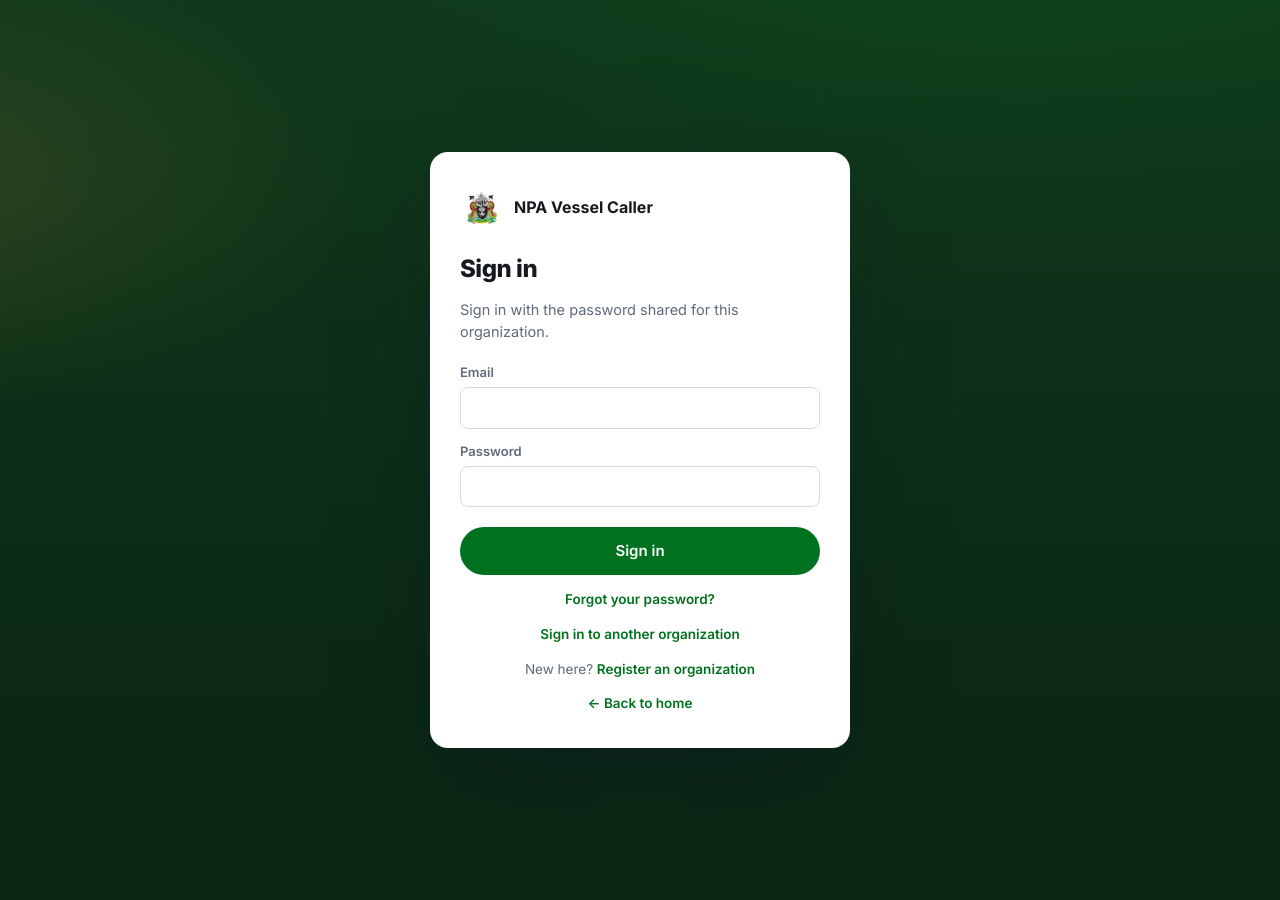
Test: AuthPage › uses the organization-specific sign-in link and keeps recovery in the same organization
This screenshot has width=1280, height=900.
Expected: the text "Sign in with the password shared for this organization." is shown, [460,301,739,340]
In the field labelled "Email": coordinates (640, 408) [460,387,820,429], type "same@example.com"
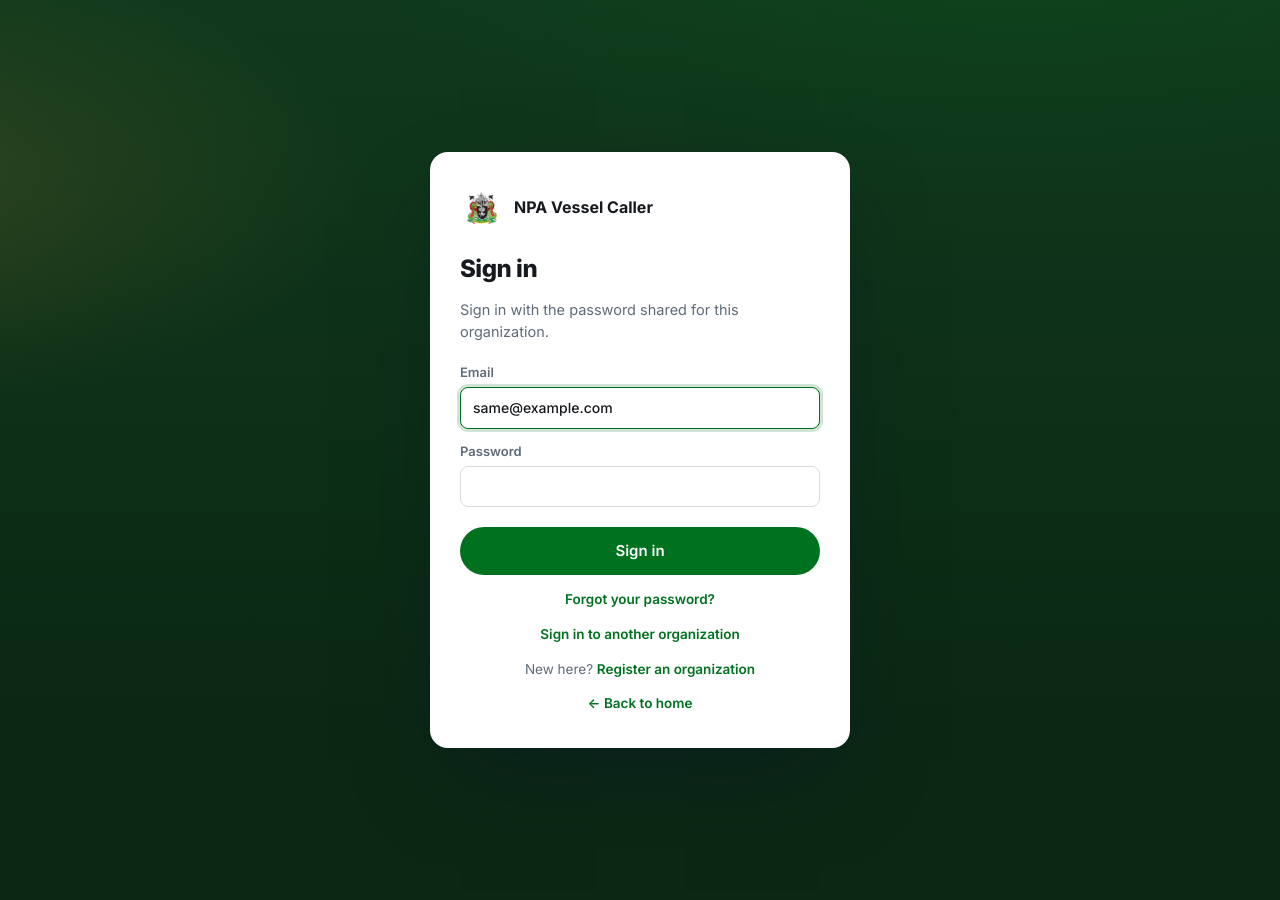
In the password field labelled "Password": coordinates (640, 487) [460,466,820,507], type "target organization password"
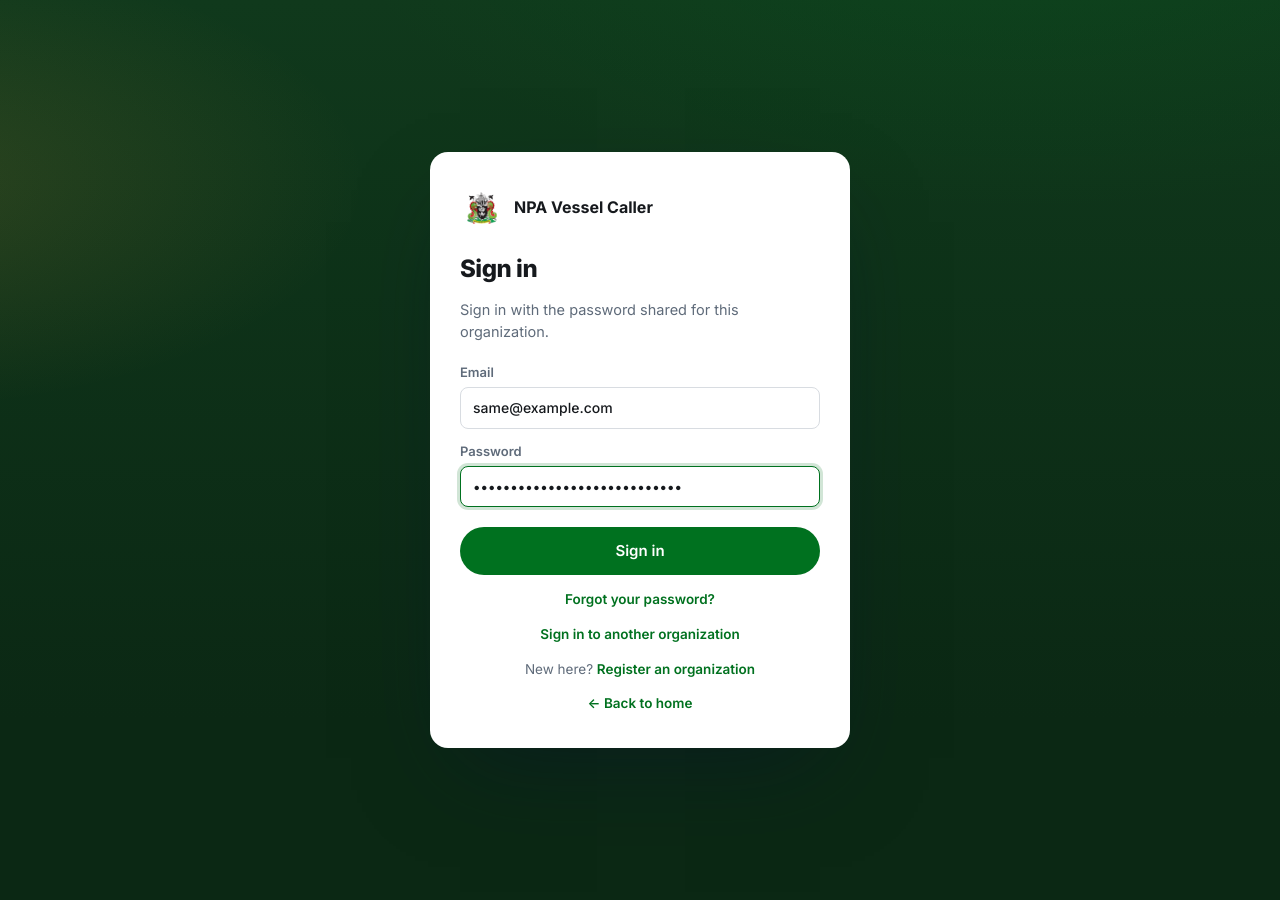
Click the button "Sign in": coordinates (640, 551) [460,527,820,575]
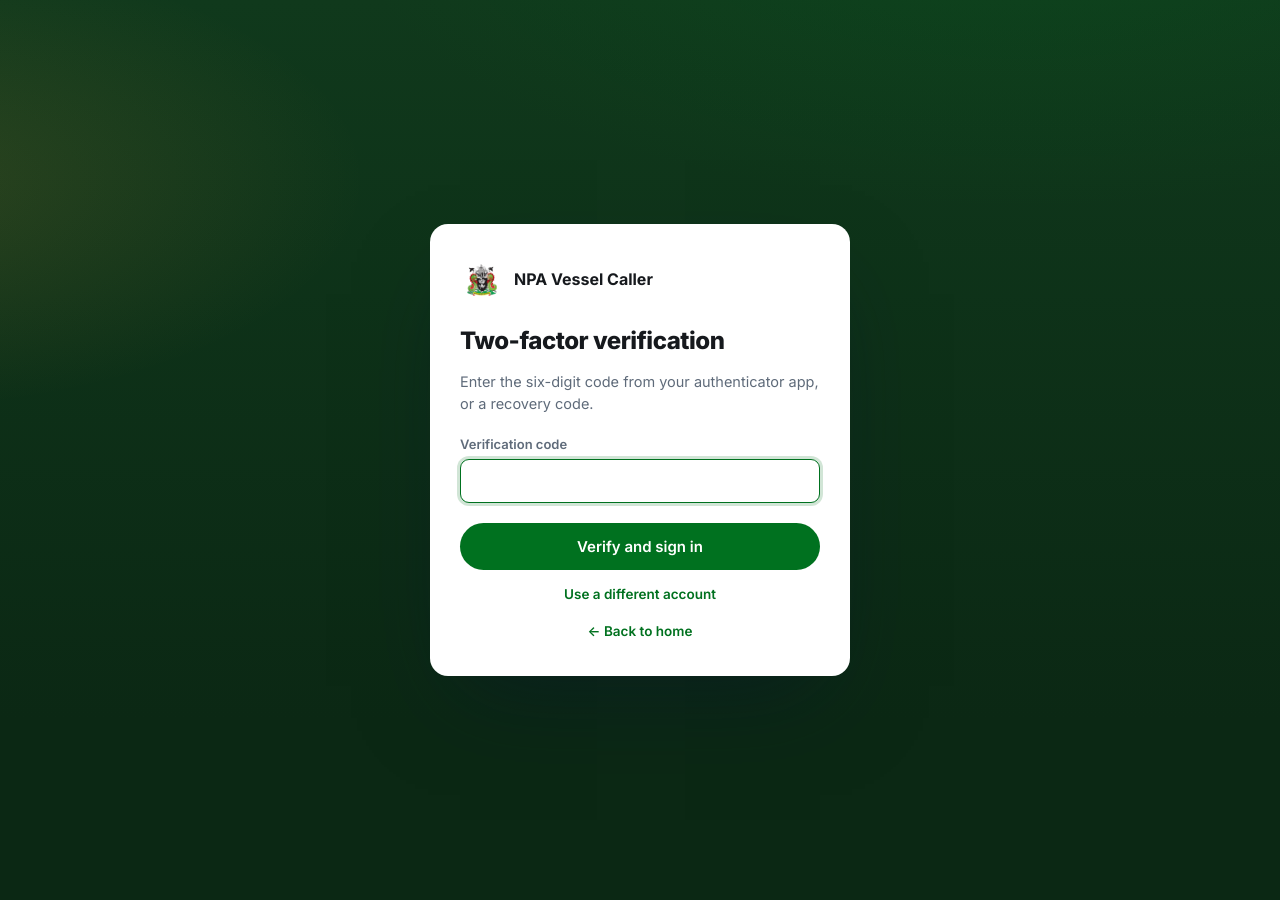
Expected: the field labelled "Verification code" is shown, [460,459,820,503]
Now the button "Use a different account" is shown, box [460,582,820,607]
